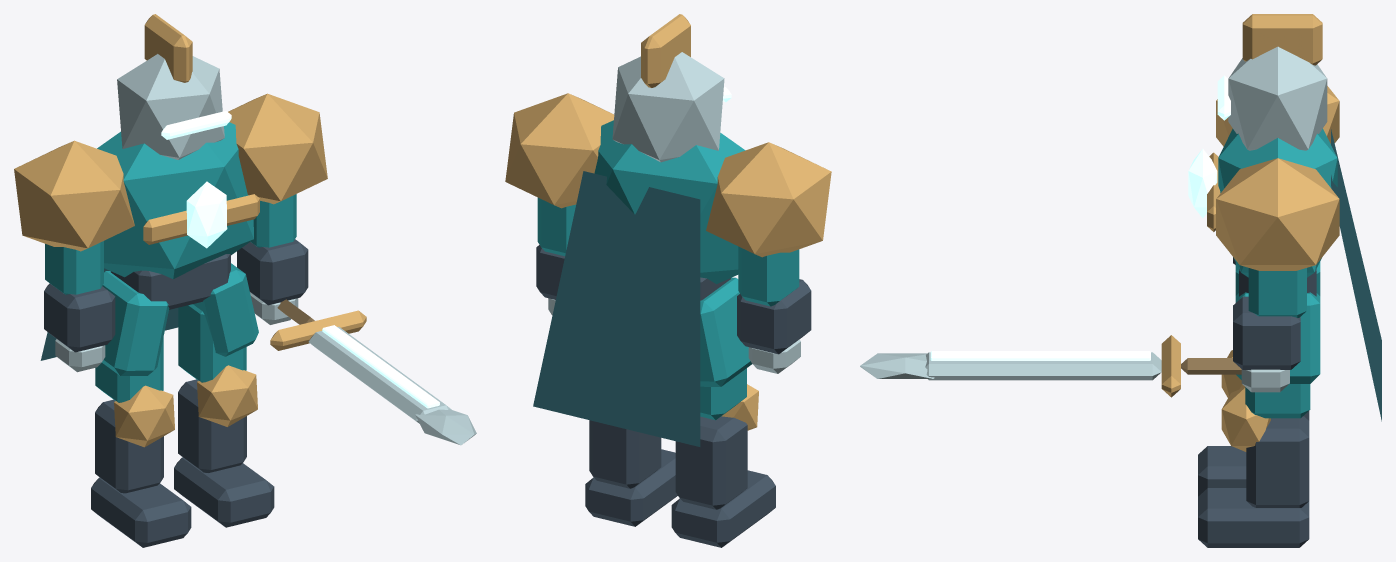
The model's file is Guardian.fbx.
3 renders of one model, left to right at view 1: azimuth 30°, elevation 25°; view 2: azimuth 150°, elevation 25°; view 3: azimuth 270°, elevation 25°, orthographic. The views are drawn at different scales.
Parts seen in each view (by area): view 1: Breastplate, Pauldron, Pauldron.001, Helm, Boot, Boot.001, Tasset, Shin.001, Shin, Gauntlet, Gauntlet.001, Tasset.001 (+18 smaller); view 2: Cape, Pauldron, Helm, Pauldron.001, Breastplate, Shin, Boot, Tasset, Shin.001, Gauntlet, Boot.001, UpperArm (+6 smaller); view 3: Pauldron.001, Helm, Boot.001, Shin.001, Blade, Gauntlet.001, Breastplate, Cape, Crest, UpperArm.001, BladeRune, Boot (+9 smaller).
Part boxes in pixels (<box>): Breastplate: <box>97,122,253,279</box>; Pauldron: <box>14,140,134,251</box>; Pauldron.001: <box>228,93,327,204</box>; Helm: <box>117,54,224,159</box>; Boot: <box>91,477,191,547</box>; Boot.001: <box>174,457,274,527</box>; Tasset: <box>102,271,169,375</box>; Shin.001: <box>178,379,246,472</box>; Shin: <box>95,399,163,493</box>; Gauntlet: <box>44,283,115,352</box>; Gauntlet.001: <box>237,239,308,305</box>; Tasset.001: <box>193,263,258,356</box>; Cape: <box>533,171,700,446</box>; Pauldron: <box>706,142,831,257</box>; Helm: <box>612,52,724,162</box>; Pauldron.001: <box>505,93,614,208</box>; Breastplate: <box>594,120,745,284</box>; Shin: <box>675,416,747,509</box>; Boot: <box>671,470,775,547</box>; Tasset: <box>700,277,751,386</box>; Shin.001: <box>589,420,661,488</box>; Gauntlet: <box>737,279,811,354</box>; Boot.001: <box>585,449,677,526</box>; UpperArm: <box>738,246,799,306</box>; Pauldron.001: <box>1216,158,1339,270</box>; Helm: <box>1228,46,1327,150</box>; Boot.001: <box>1198,488,1309,547</box>; Shin.001: <box>1246,416,1309,507</box>; Blade: <box>925,352,1161,380</box>; Gauntlet.001: <box>1233,296,1300,369</box>; Breastplate: <box>1218,128,1337,277</box>; Cape: <box>1331,129,1381,421</box>; Crest: <box>1242,14,1322,65</box>; UpperArm.001: <box>1248,268,1306,317</box>; BladeRune: <box>930,351,1150,360</box>; Boot: <box>1198,446,1246,496</box>.
Bounding box in the file's own units: 148 × 229 × 216.
